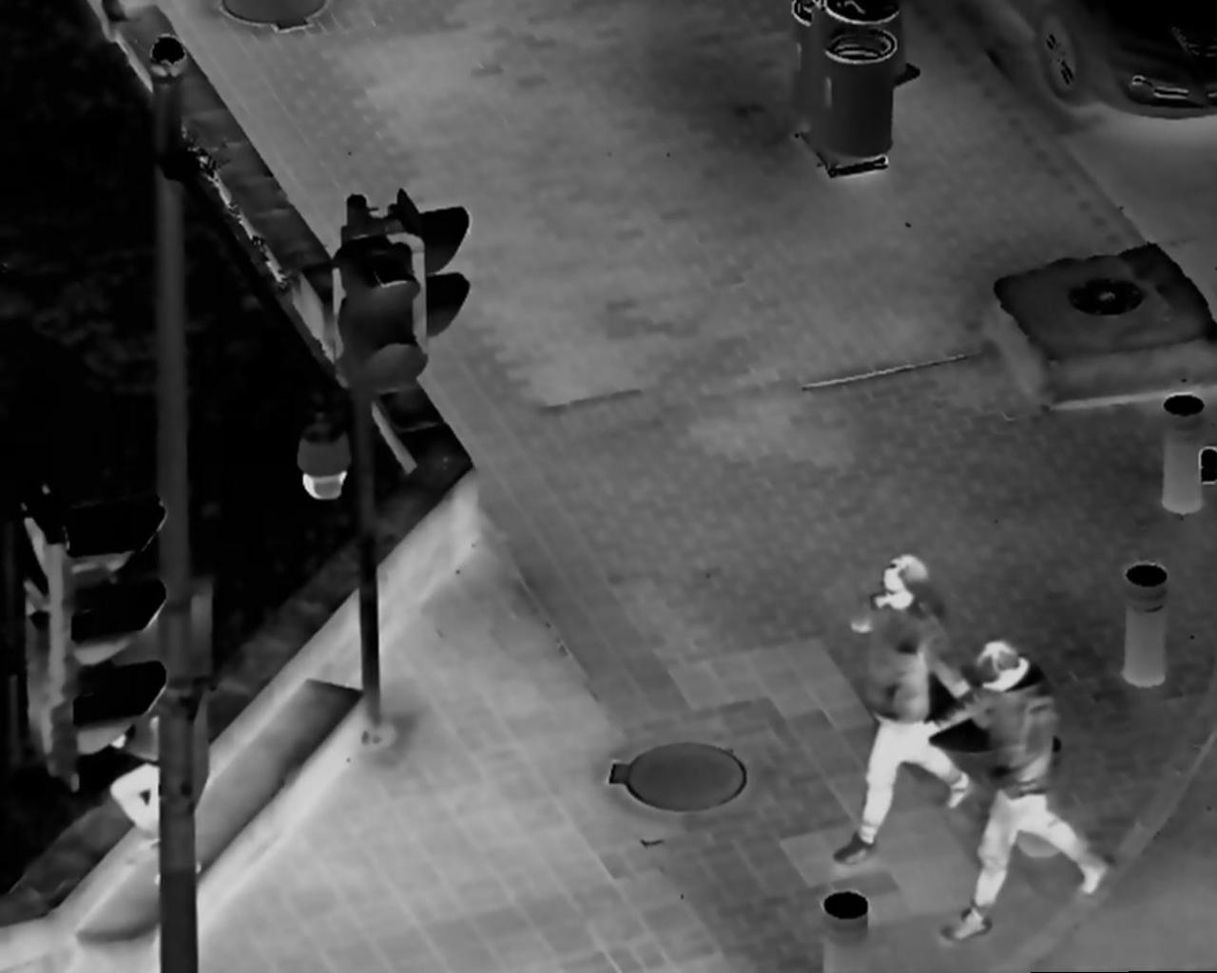person: (939, 639, 1111, 947), (825, 543, 970, 879), (99, 661, 226, 854)
